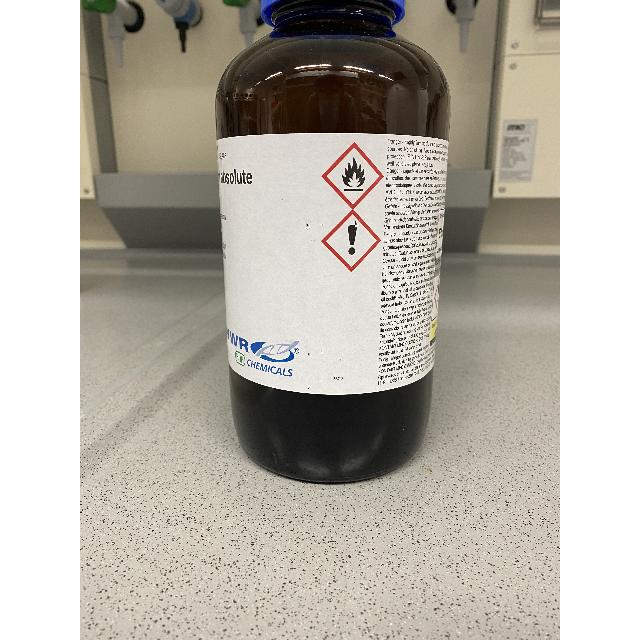flammable: (342, 156, 364, 190)
health-ozone layer hazard: (348, 225, 357, 255)
